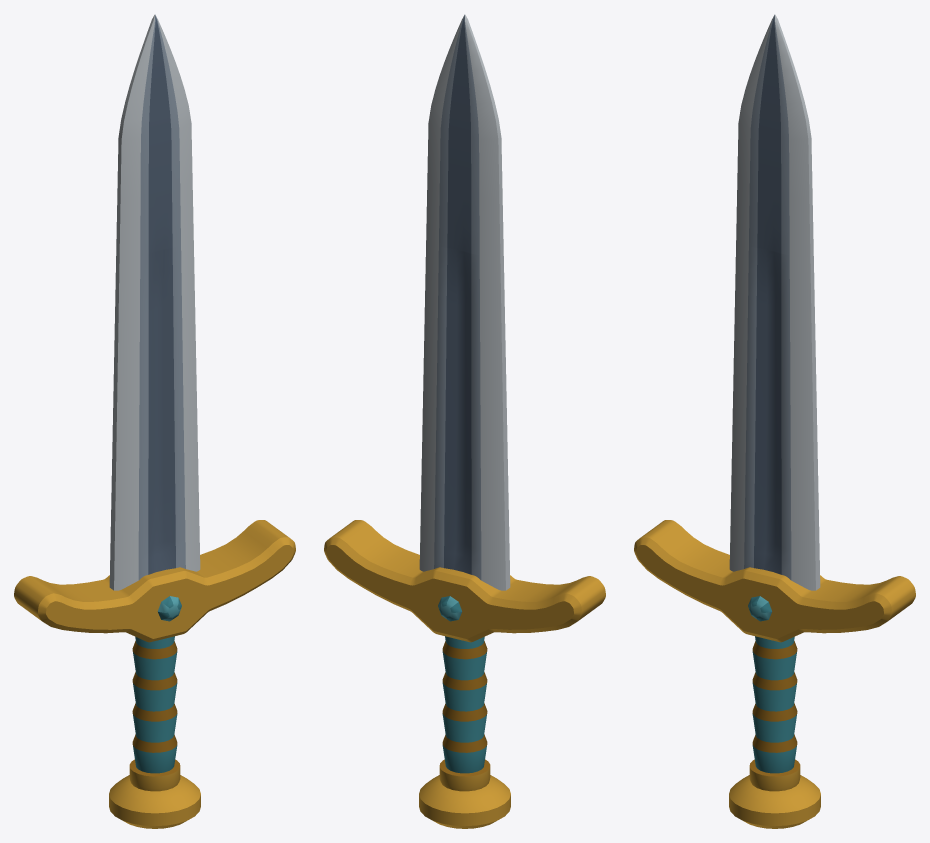
Rendered from Longsword_18.glb.
3 views of the same model, side by side, from view 1: azimuth 30°, elevation 25°; view 2: azimuth 150°, elevation 25°; view 3: azimuth 330°, elevation 25° (orthographic).
Parts seen in each view (by area): view 1: Longsword_18; view 2: Longsword_18; view 3: Longsword_18.
Part boxes in pixels (x1,y1,x2,y2): Longsword_18: (14, 14, 295, 828); Longsword_18: (324, 14, 605, 828); Longsword_18: (634, 14, 915, 828).
Bounding box in the file's own units: 2.26 × 6.71 × 0.6994.
